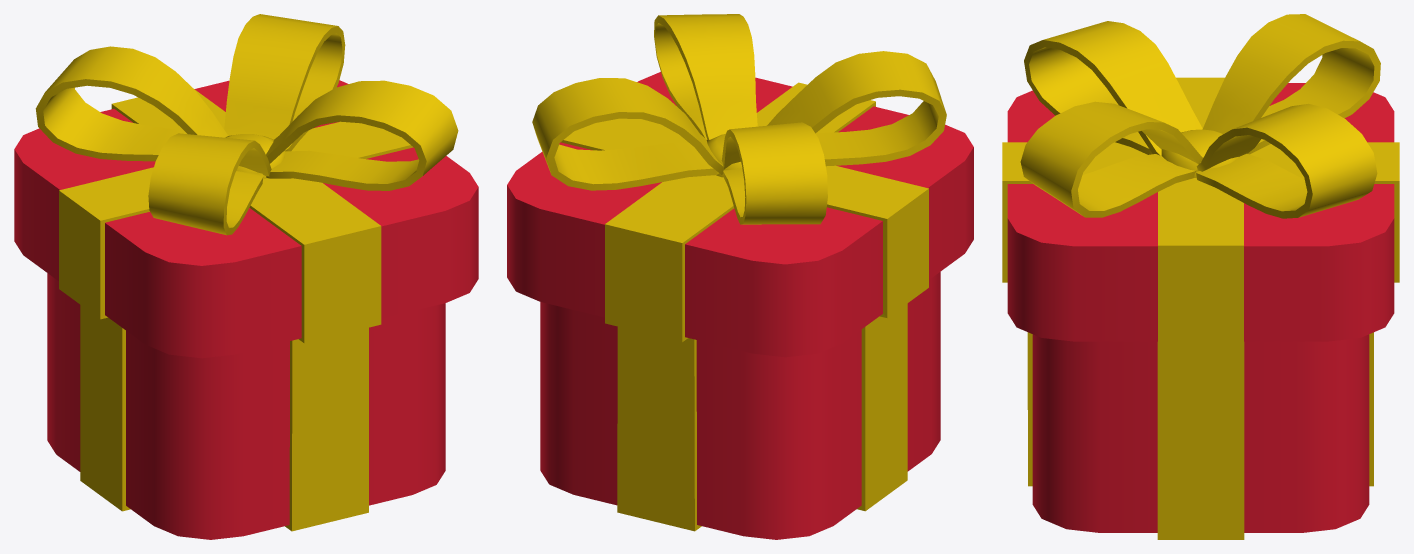
File: Gift_Box_02.fbx
The picture shows the model from 3 angles, left to right: view 1: azimuth 30°, elevation 25°; view 2: azimuth 150°, elevation 25°; view 3: azimuth 270°, elevation 25°; orthographic projection. The views are drawn at different scales.
Visible parts, largest first — view 1: Gift_Box_02_top, Gift_Box_02_bottom; view 2: Gift_Box_02_top, Gift_Box_02_bottom; view 3: Gift_Box_02_top, Gift_Box_02_bottom.
Boxes of the visible parts, bbox=[...] form: Gift_Box_02_top: bbox=[14, 14, 478, 358]; Gift_Box_02_bottom: bbox=[47, 273, 445, 539]; Gift_Box_02_top: bbox=[507, 14, 973, 357]; Gift_Box_02_bottom: bbox=[540, 272, 940, 539]; Gift_Box_02_top: bbox=[1002, 14, 1399, 347]; Gift_Box_02_bottom: bbox=[1027, 332, 1373, 539].
Bounding box in the file's own units: 2.36 × 2.58 × 2.36.
